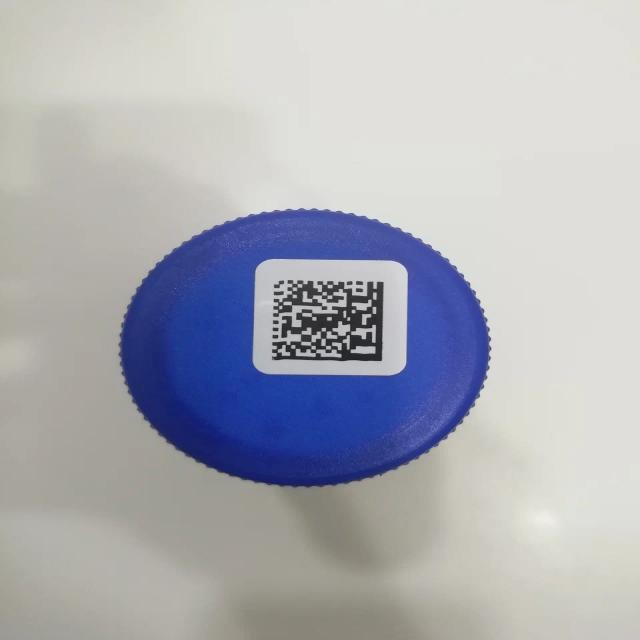datamatrix: (272, 278, 386, 363)
